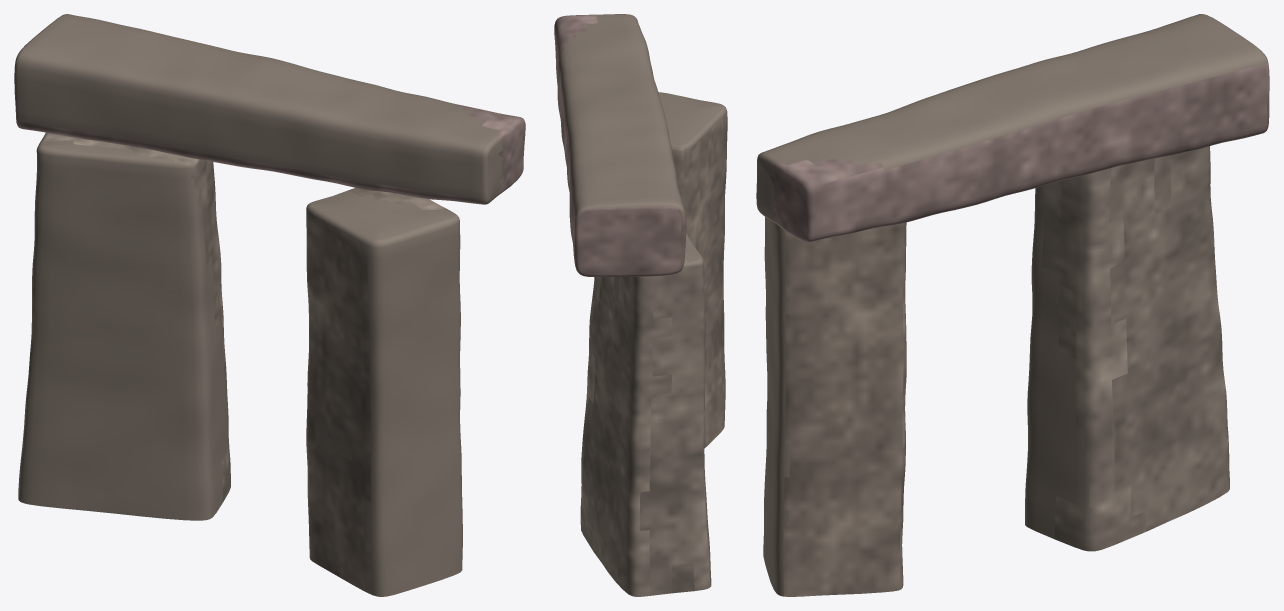
Rendered from VerHenge11.glb.
The picture shows the model from 3 angles, left to right: view 1: azimuth 30°, elevation 25°; view 2: azimuth 150°, elevation 25°; view 3: azimuth 270°, elevation 25°; orthographic projection. The views are drawn at different scales.
Visible parts, largest first — view 1: VerHenge11; view 2: VerHenge11; view 3: VerHenge11.
Part boxes in pixels (left/top/right/bottom): VerHenge11: left=14, top=14, right=525, bottom=596; VerHenge11: left=554, top=14, right=727, bottom=596; VerHenge11: left=756, top=14, right=1269, bottom=596.
Bounding box in the file's own units: 3.36 × 4.13 × 4.17.
Materials: 2 (1 with a texture image).
